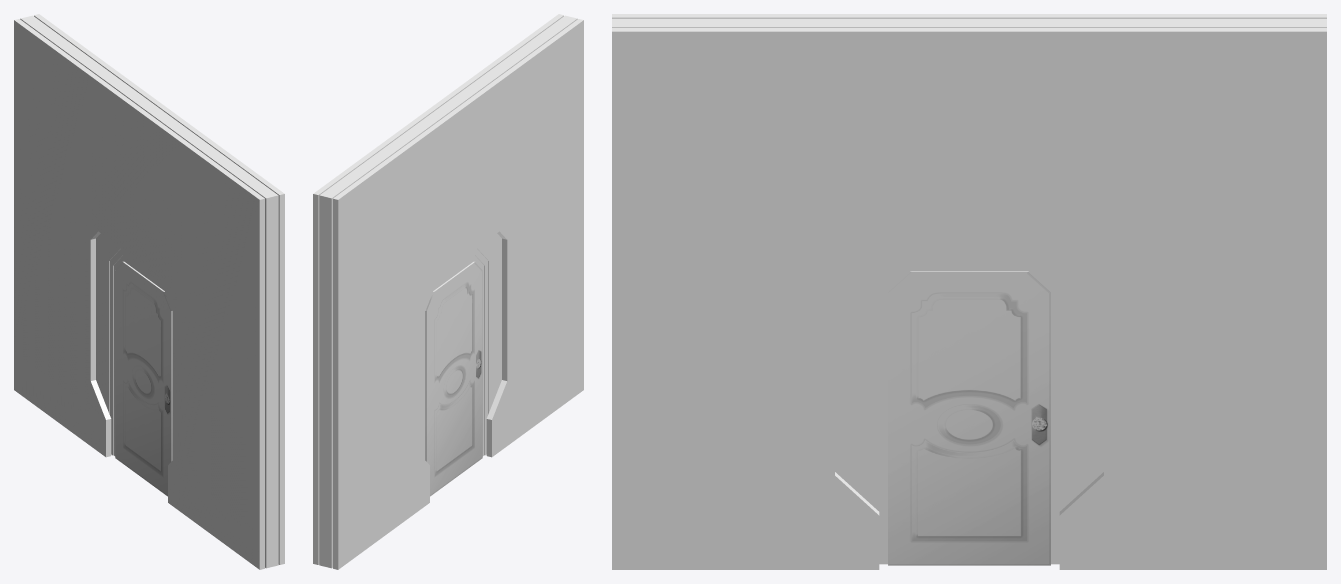
Rendered from white_door_item.obj.
The picture shows the model from 3 angles, left to right: view 1: azimuth 30°, elevation 25°; view 2: azimuth 150°, elevation 25°; view 3: azimuth 270°, elevation 25°; orthographic projection. The views are drawn at different scales.
Parts seen in each view (by area): view 1: cube.049, cube.045, cube.043, cube.066, cube.052, cube.042, cube.051, cube.047, cube.040, cube.057, cube.053, cube.048 (+8 smaller); view 2: cube.045, cube.049, cube.043, cube.066, cube.051, cube.042, cube.047, cube.052, cube.036, cube.057, cube.048, cube.061 (+6 smaller); view 3: cube.036, cube.040, cube.034, cube.066, cube.033, cube.038, cube.051, cube.052, cube.039, cube.057, cube.060, cube.037 (+11 smaller).
Boxes of the visible parts, bbox=[...] form: cube.049: bbox=[183, 142, 264, 532]; cube.045: bbox=[14, 19, 95, 408]; cube.043: bbox=[90, 75, 187, 291]; cube.066: bbox=[115, 261, 172, 496]; cube.052: bbox=[177, 130, 278, 568]; cube.042: bbox=[14, 353, 111, 457]; cube.051: bbox=[20, 15, 120, 413]; cube.047: bbox=[168, 466, 264, 569]; cube.040: bbox=[203, 138, 284, 527]; cube.057: bbox=[109, 80, 189, 288]; cube.053: bbox=[109, 261, 113, 455]; cube.048: bbox=[168, 449, 197, 501]; cube.045: bbox=[333, 142, 414, 532]; cube.049: bbox=[502, 19, 583, 407]; cube.043: bbox=[410, 75, 507, 292]; cube.066: bbox=[425, 261, 482, 496]; cube.051: bbox=[319, 130, 420, 568]; cube.042: bbox=[333, 466, 429, 569]; cube.047: bbox=[486, 353, 583, 457]; cube.052: bbox=[477, 15, 577, 413]; cube.036: bbox=[313, 138, 394, 527]; cube.057: bbox=[408, 80, 488, 288]; cube.048: bbox=[486, 380, 521, 434]; cube.061: bbox=[484, 261, 488, 455]; cube.036: bbox=[1104, 28, 1326, 515]; cube.040: bbox=[612, 28, 834, 515]; cube.034: bbox=[835, 28, 1103, 249]; cube.066: bbox=[888, 271, 1050, 565]; cube.033: bbox=[1059, 515, 1326, 569]; cube.038: bbox=[612, 515, 879, 569]; cube.051: bbox=[1069, 18, 1326, 502]; cube.052: bbox=[612, 18, 869, 502]; cube.039: bbox=[793, 472, 879, 553]; cube.057: bbox=[869, 18, 1069, 254]; cube.060: bbox=[878, 285, 888, 564]; cube.037: bbox=[1059, 472, 1144, 553].
Size of the model in its own units: 0.2579 by 3.64 by 4.38.
